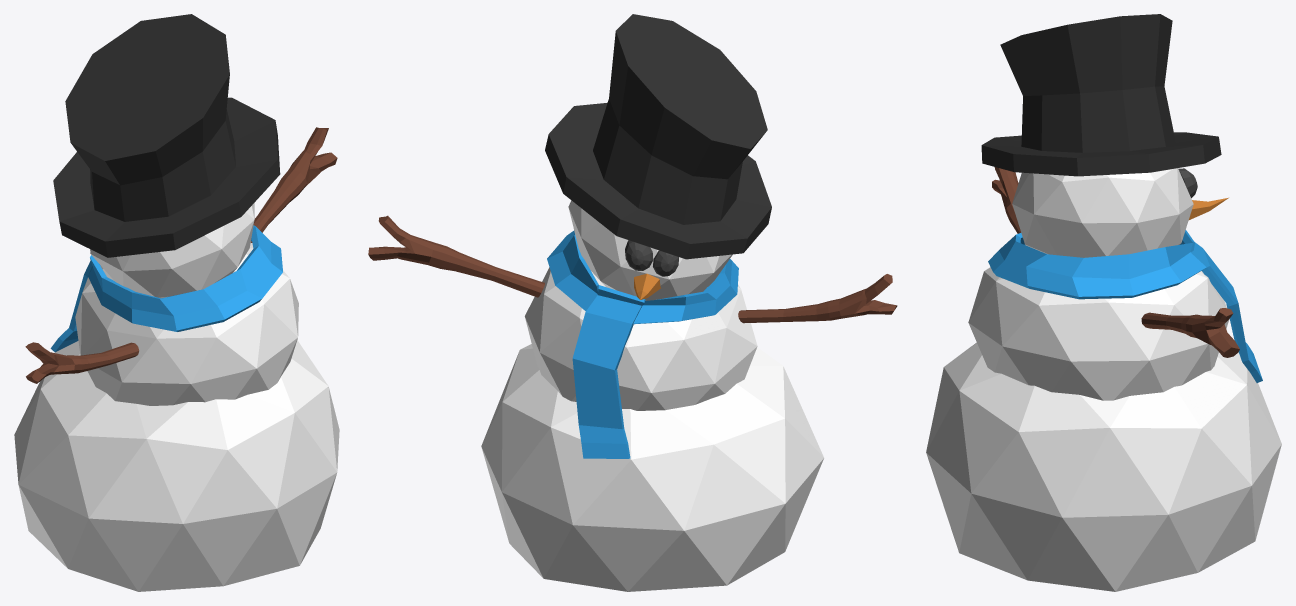
File: Snowman Low Polly.fbx
3 renders of one model, left to right at view 1: azimuth 30°, elevation 25°; view 2: azimuth 150°, elevation 25°; view 3: azimuth 270°, elevation 25°, orthographic. The views are drawn at different scales.
Parts seen in each view (by area): view 1: bottom_body, top_hat, medium_body, scarf, head, right_arm, left_arm; view 2: bottom_body, top_hat, medium_body, scarf, head, right_arm, left_arm, eyes; view 3: bottom_body, top_hat, medium_body, head, scarf, right_arm, left_arm.
Part boxes in pixels (x1=…): bottom_body: x1=14, y1=340, x2=339, y2=591; top_hat: x1=53, y1=14, x2=280, y2=257; medium_body: x1=75, y1=243, x2=298, y2=405; scarf: x1=50, y1=225, x2=282, y2=352; head: x1=90, y1=203, x2=254, y2=298; right_arm: x1=250, y1=127, x2=337, y2=242; left_arm: x1=25, y1=342, x2=139, y2=383; bottom_body: x1=481, y1=344, x2=823, y2=591; top_hat: x1=545, y1=14, x2=771, y2=259; medium_body: x1=524, y1=267, x2=757, y2=410; scarf: x1=547, y1=230, x2=738, y2=458; head: x1=568, y1=200, x2=732, y2=300; right_arm: x1=368, y1=215, x2=544, y2=297; left_arm: x1=738, y1=274, x2=897, y2=323; eyes: x1=625, y1=240, x2=678, y2=276; bottom_body: x1=926, y1=342, x2=1281, y2=591; top_hat: x1=981, y1=14, x2=1221, y2=176; medium_body: x1=968, y1=267, x2=1229, y2=400; head: x1=1012, y1=168, x2=1193, y2=257; scarf: x1=988, y1=230, x2=1262, y2=382; right_arm: x1=1141, y1=308, x2=1239, y2=357; left_arm: x1=992, y1=167, x2=1020, y2=233.
Size of the model in its own units: 296 by 340 by 210.
